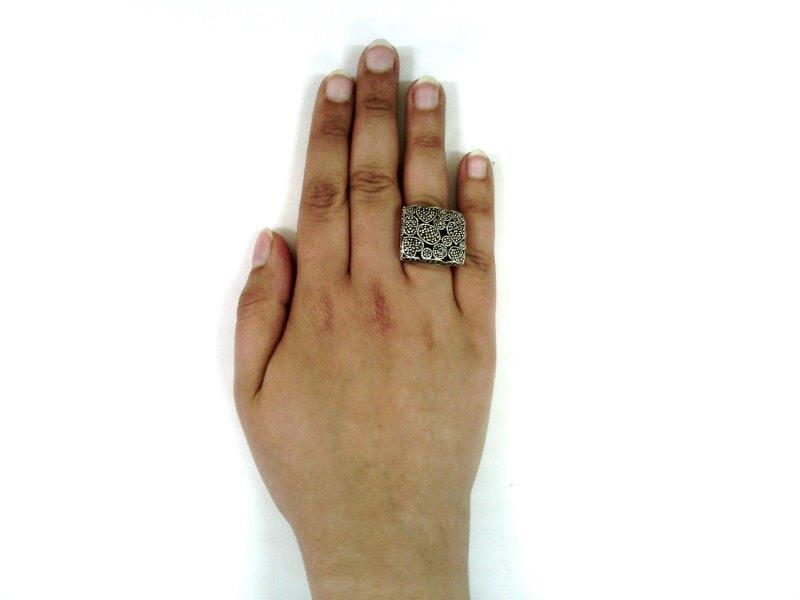hand: (233, 39, 494, 478)
